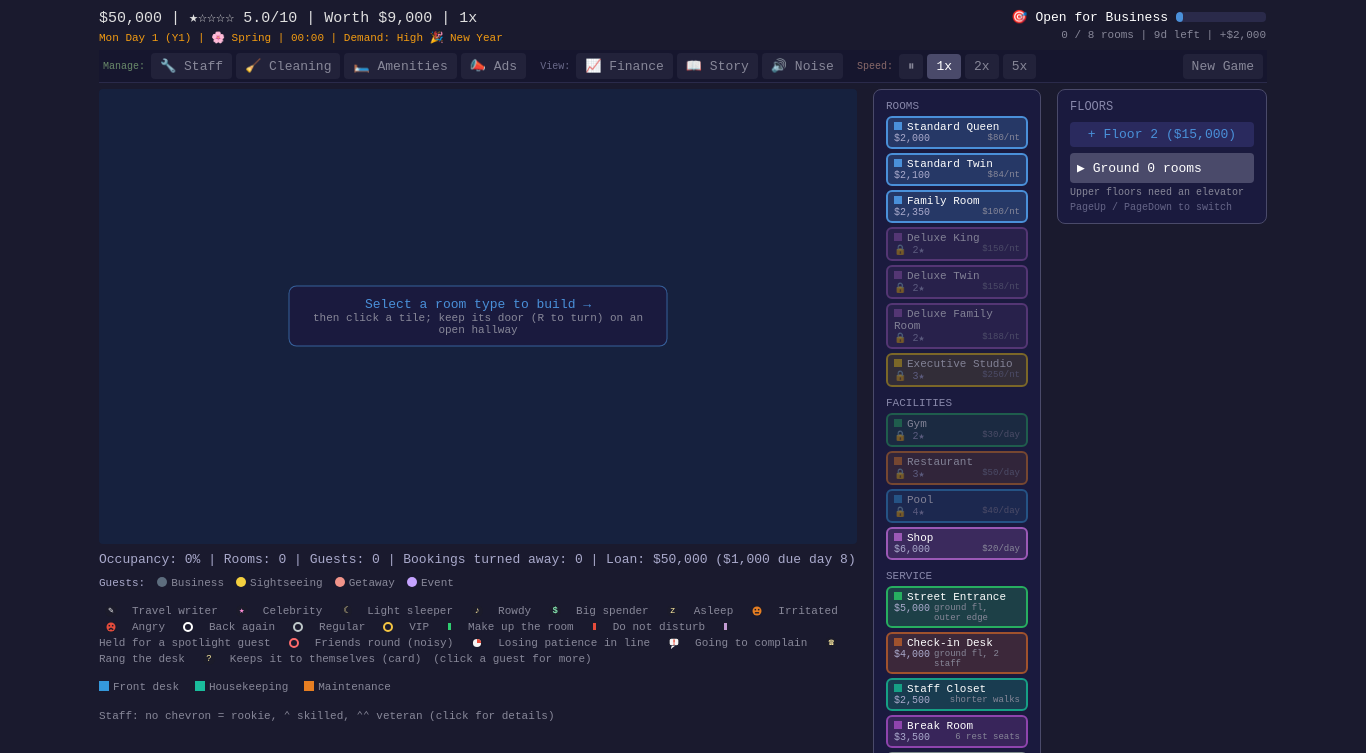
Test: Interface › new game asks for confirmation first
Click the button "New Game". click: (1223,66)
box: [1183, 54, 1263, 78]
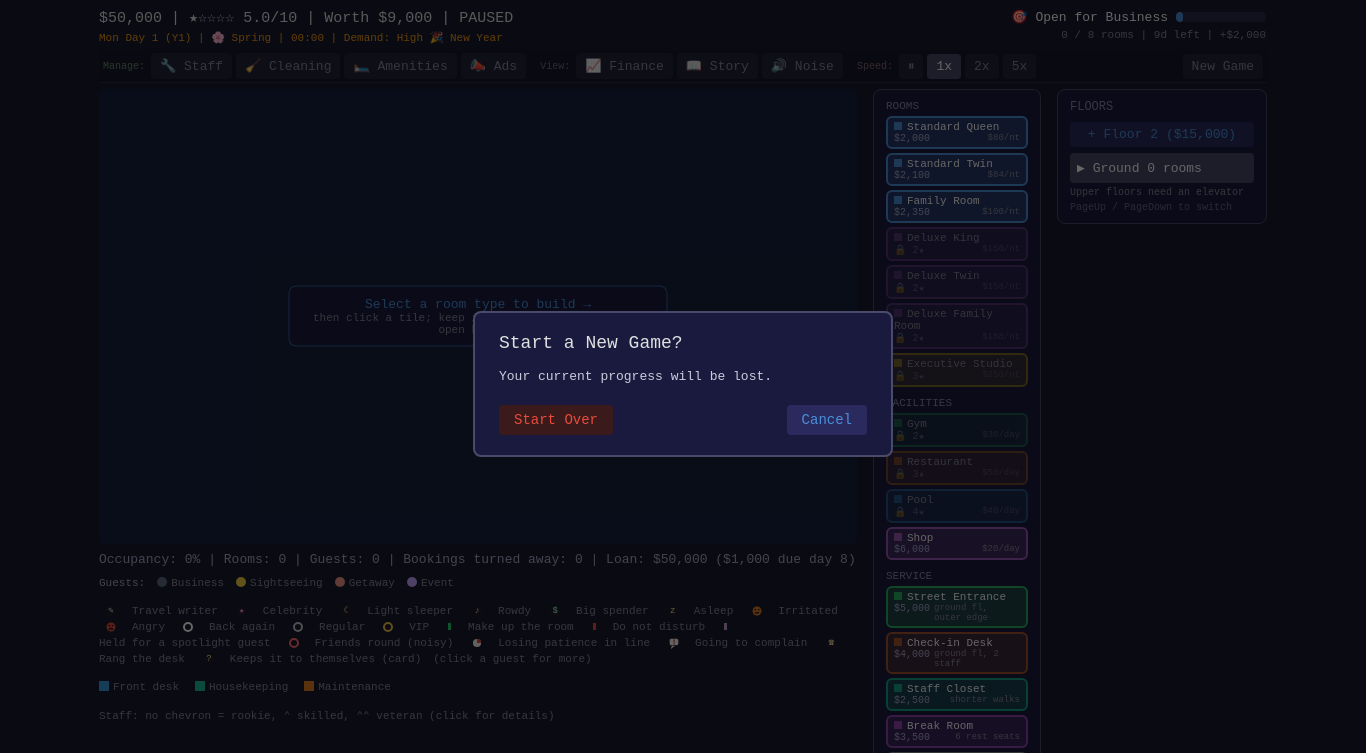
Expected: the dialog "Start a New Game" is shown, [473, 311, 893, 457]
Click the button "Cancel". click: (827,420)
box: [787, 405, 867, 435]
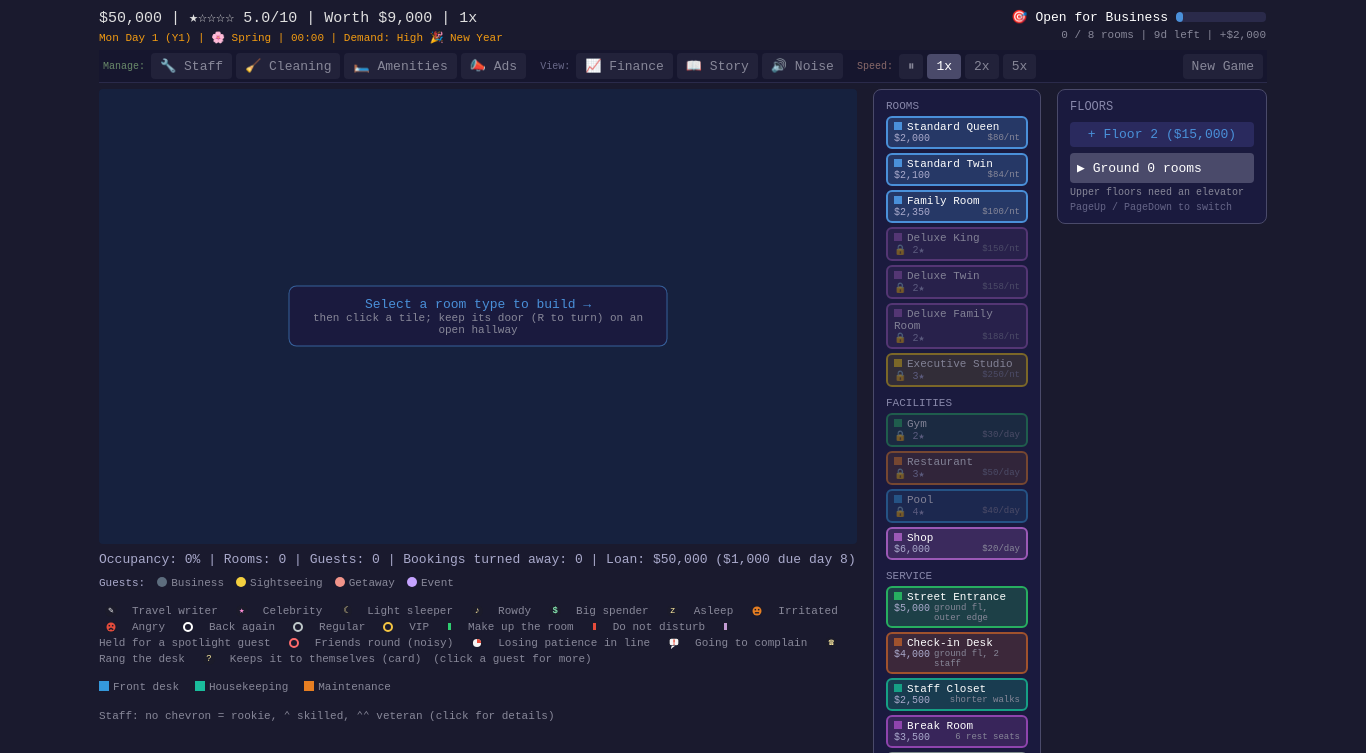
Expected: the heading "Start a New Game" is gone
